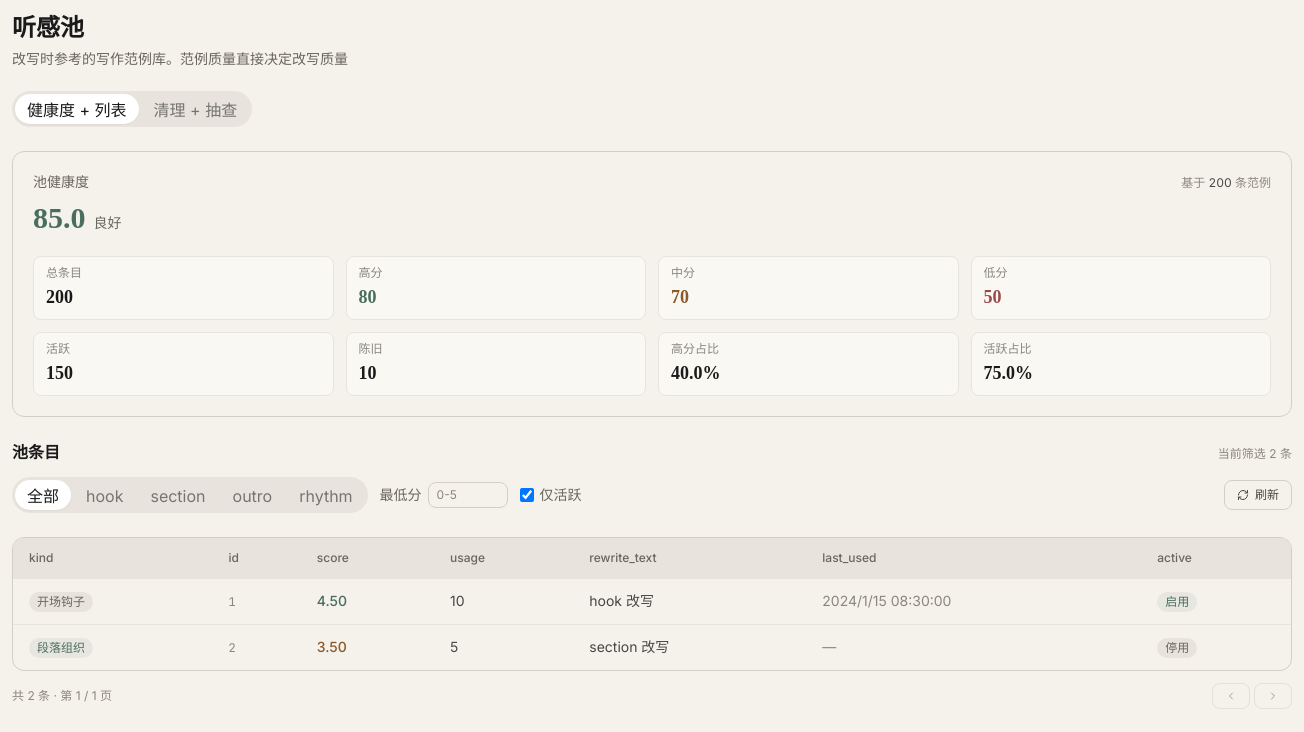
Test: FewShotPool › cleanup tab → 显示 PoolAuditWorkflow 内容
Expected: the heading "听感池" is shown, x1=12 y1=15 x2=84 y2=41
Click the tab "清理 + 抽查" at (195, 109), box x1=142 y1=94 x2=249 y2=124
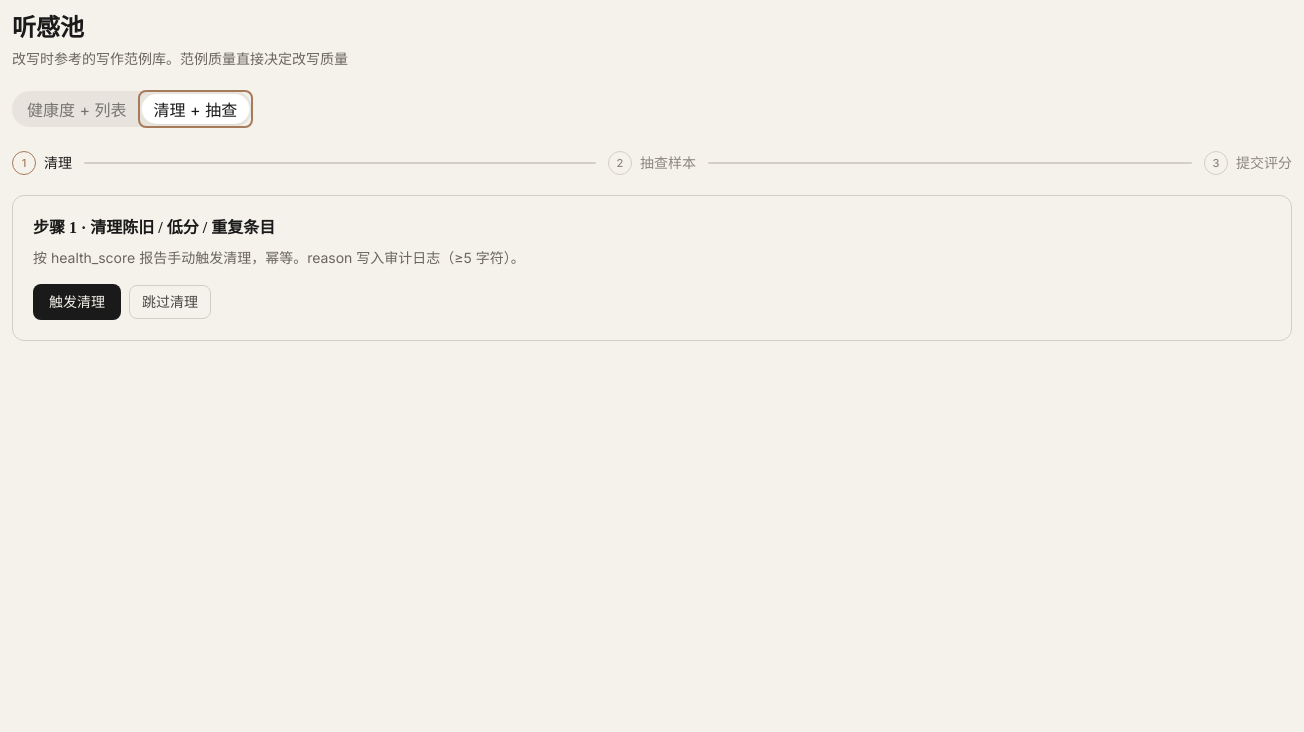
Result: the heading "步骤 1 · 清理陈旧 / 低分 / 重复条目" is shown at x1=33 y1=219 x2=275 y2=236
